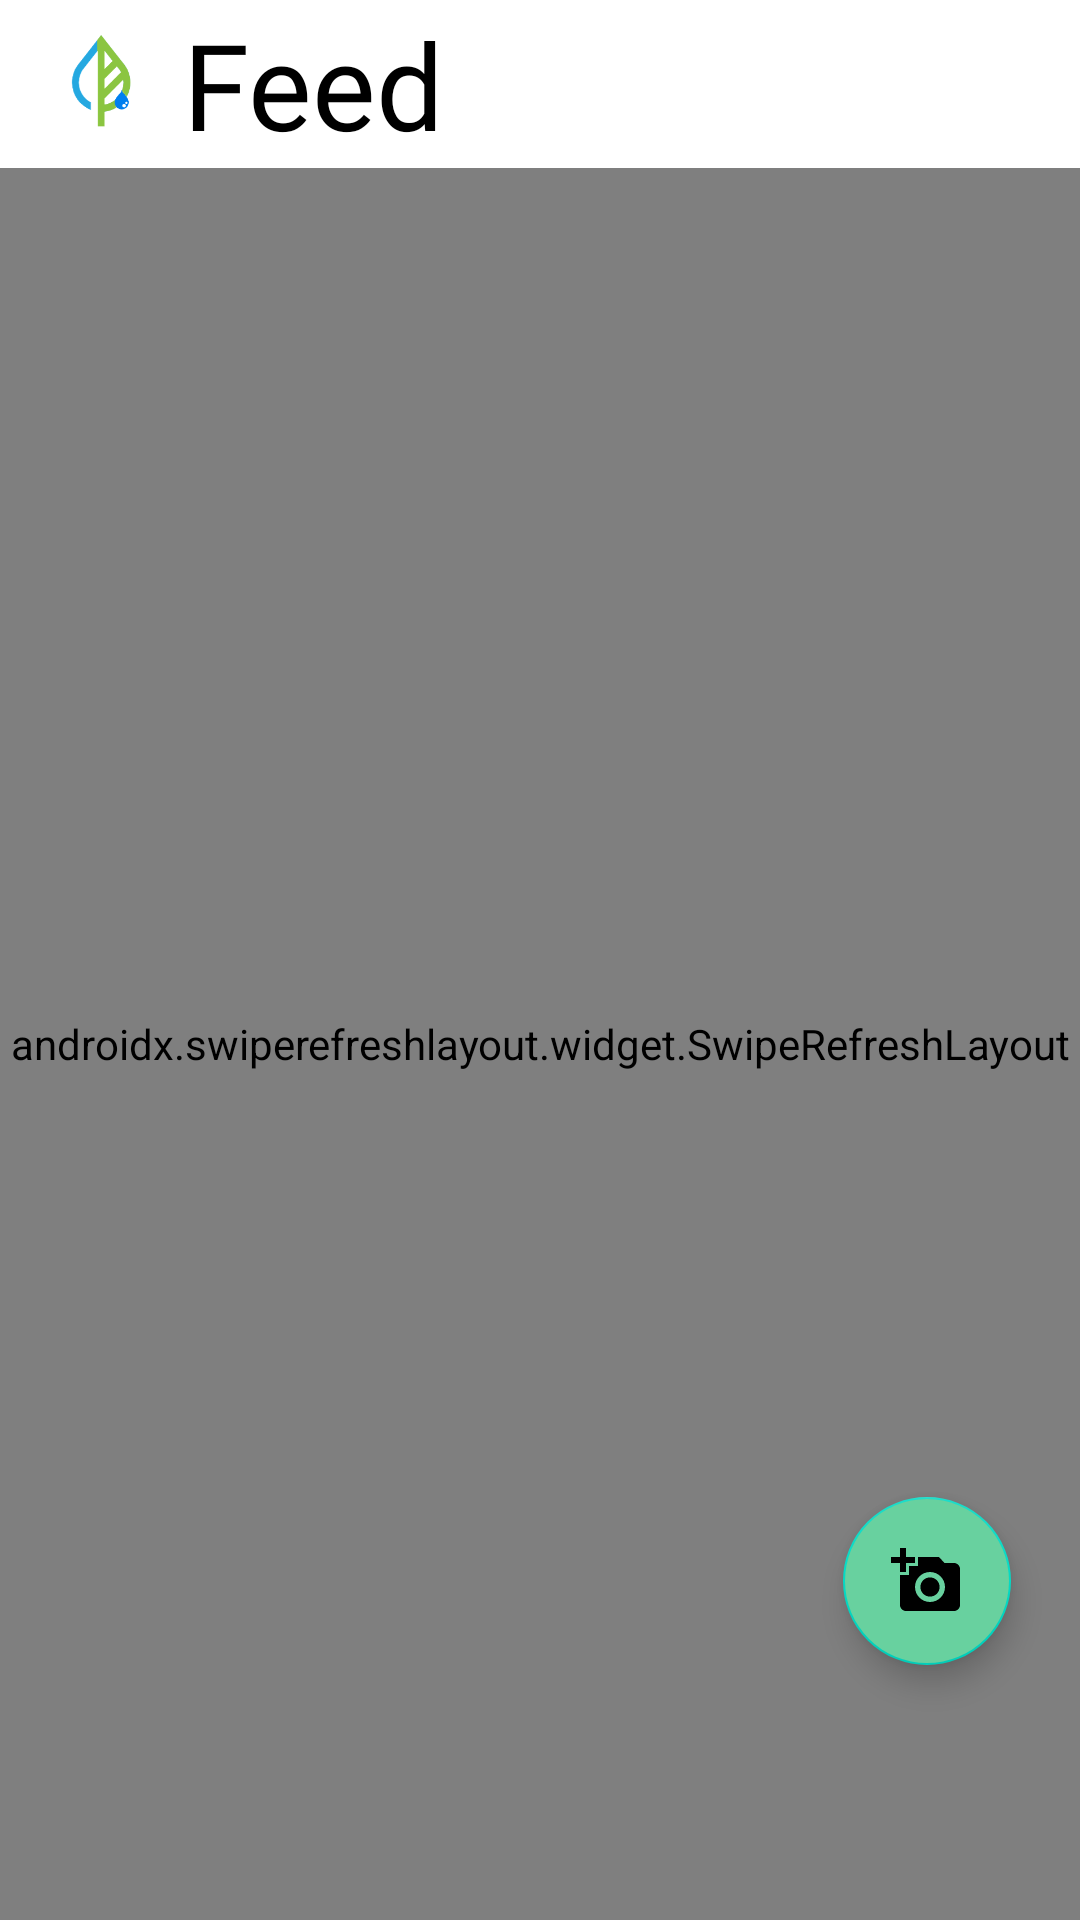

Point at icon controls on the screen. Image size 1080px x 1920px, points as (x,y).
upload: (927,1581)
